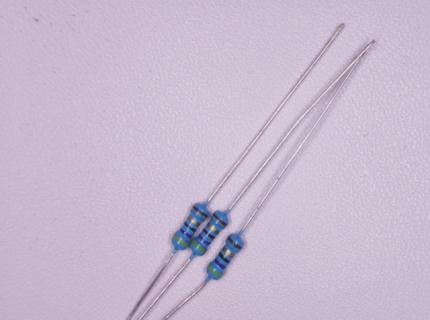Black band: (218, 252, 230, 264), (184, 222, 196, 233), (203, 228, 214, 240)
Brown band: (227, 236, 242, 250), (213, 213, 227, 226), (193, 205, 207, 218)
Gold band: (206, 222, 220, 235), (187, 215, 201, 227), (222, 247, 235, 259)
Violet band: (179, 227, 193, 239), (213, 258, 226, 270), (198, 234, 210, 246)
Yellow band: (191, 240, 206, 254), (209, 264, 222, 278), (174, 235, 188, 247)
